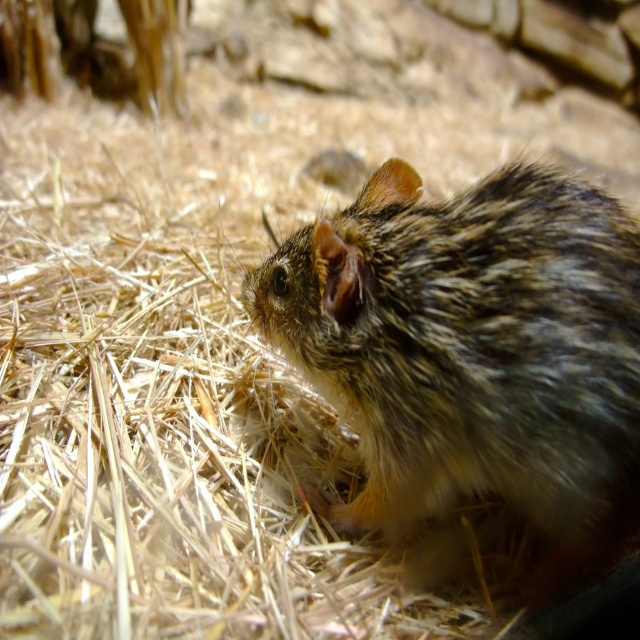Mouse: (200, 125, 640, 640)
